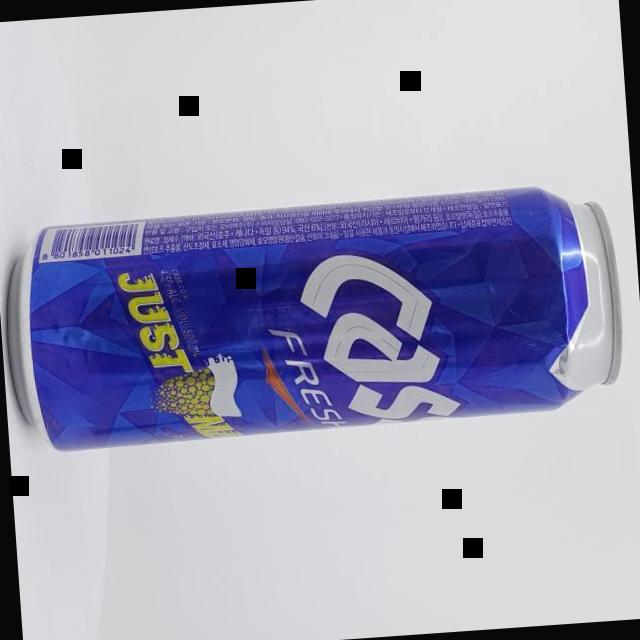can: (0, 180, 629, 455)
